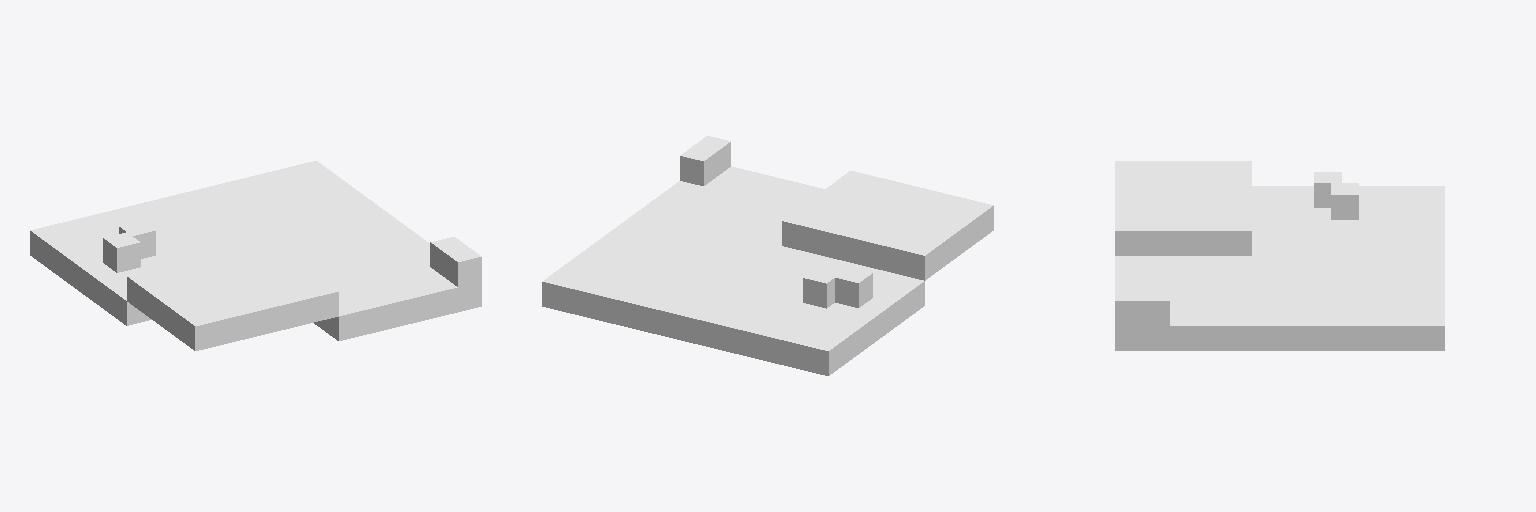
File: map1.56.vox.obj
The picture shows the model from 3 angles: view 1: azimuth 30°, elevation 25°; view 2: azimuth 150°, elevation 25°; view 3: azimuth 270°, elevation 25°; orthographic projection.
Visible parts, largest first — view 1: object 1; view 2: object 1; view 3: object 1.
Part boxes in pixels (x1,y1,x2,y2): object 1: (30,161,481,350); object 1: (542,136,993,375); object 1: (1115,161,1444,350).
Size of the model in its own units: 24 by 4 by 24.